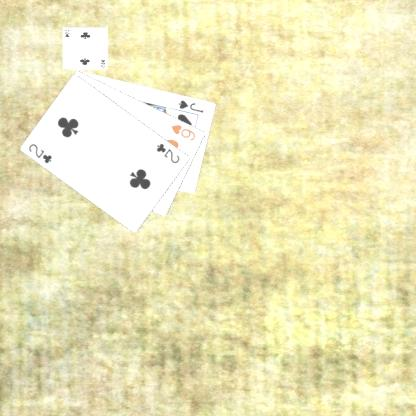2C: (154, 140, 182, 165), (26, 140, 54, 164)
6H: (169, 121, 197, 142)
JS: (175, 97, 205, 114)
